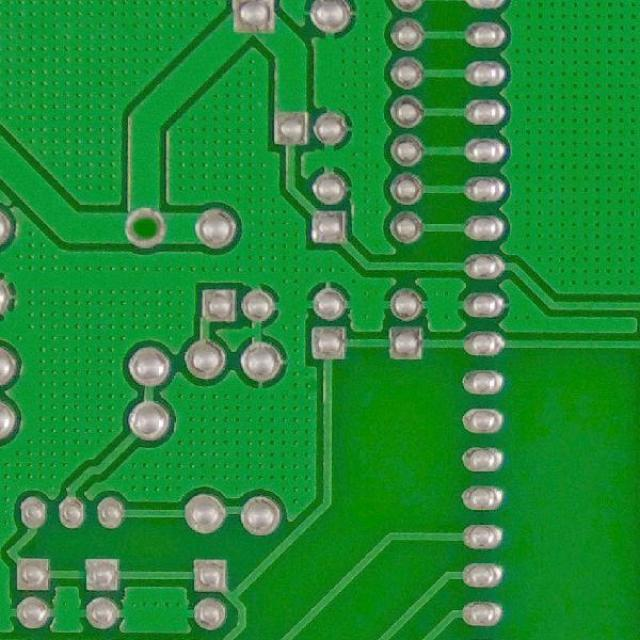Missing_Hole: (120, 204, 168, 253)
